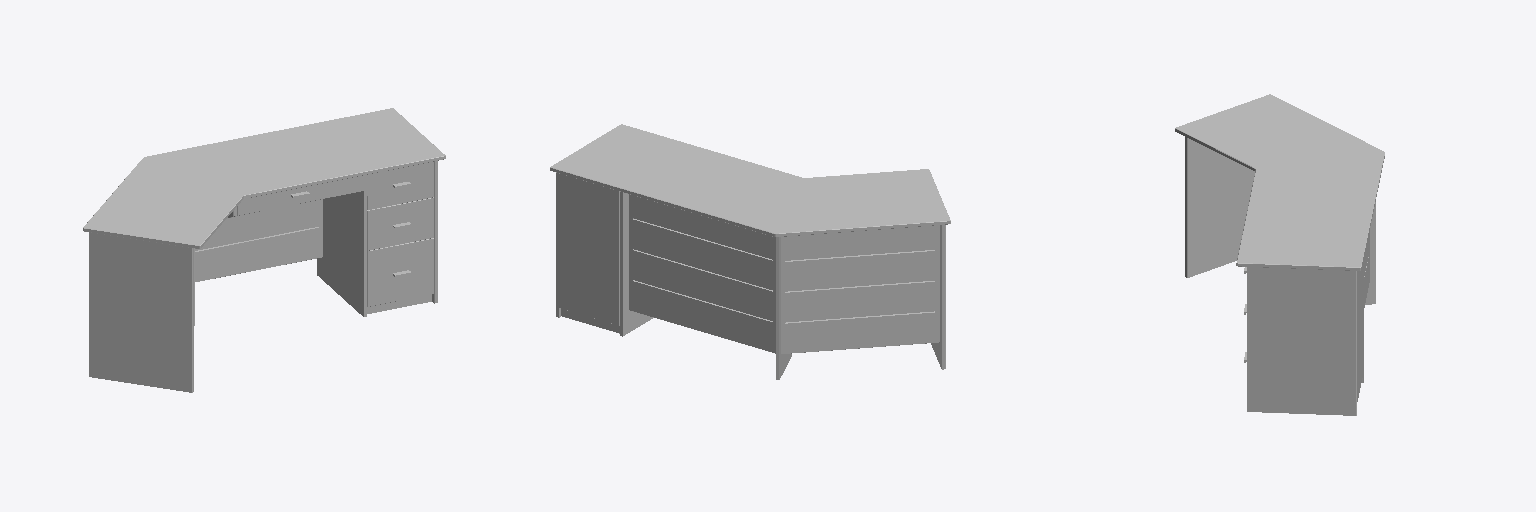
The model's file is Office Table.obj.
3 renders of one model, left to right at view 1: azimuth 30°, elevation 25°; view 2: azimuth 150°, elevation 25°; view 3: azimuth 270°, elevation 25°, orthographic.
Visible parts, largest first — view 1: Table_Top, Table_stand_left, Table_Drawers, Table_back_2, Table_standright_1, Table_stand_right2; view 2: Table_back_2, Table_Top, Table_back_1, Table_standright_1, Table_stand_left, Table_Stand_Center; view 3: Table_Top, Table_stand_right2, Table_stand_left, Table_back_1, Table_Stand_Center.
Boxes of the visible parts, <box> form: Table_Top: <box>83,108,445,248</box>; Table_stand_left: <box>89,232,193,392</box>; Table_Drawers: <box>237,162,433,306</box>; Table_back_2: <box>195,199,322,281</box>; Table_standright_1: <box>317,175,366,316</box>; Table_stand_right2: <box>432,161,437,303</box>; Table_back_2: <box>629,194,939,353</box>; Table_Top: <box>550,124,950,236</box>; Table_back_1: <box>559,174,619,333</box>; Table_standright_1: <box>620,192,653,336</box>; Table_stand_left: <box>931,225,945,369</box>; Table_Stand_Center: <box>776,237,791,379</box>; Table_Top: <box>1175,94,1384,270</box>; Table_stand_right2: <box>1247,267,1356,415</box>; Table_stand_left: <box>1185,137,1254,277</box>; Table_back_1: <box>1357,265,1362,401</box>; Table_Stand_Center: <box>1365,202,1375,304</box>.
Size of the model in its own units: 197 by 79.38 by 101.